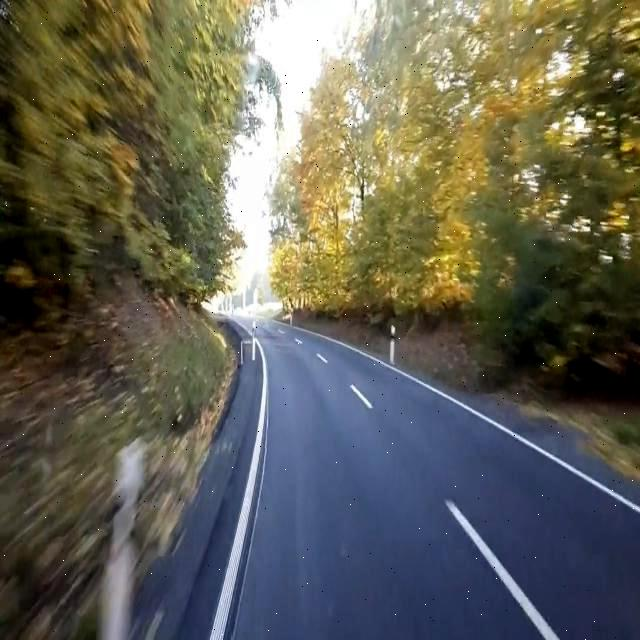lane: (299, 329, 640, 513), (209, 342, 268, 640), (446, 500, 560, 639), (350, 384, 372, 409)
road: (132, 322, 640, 639)
